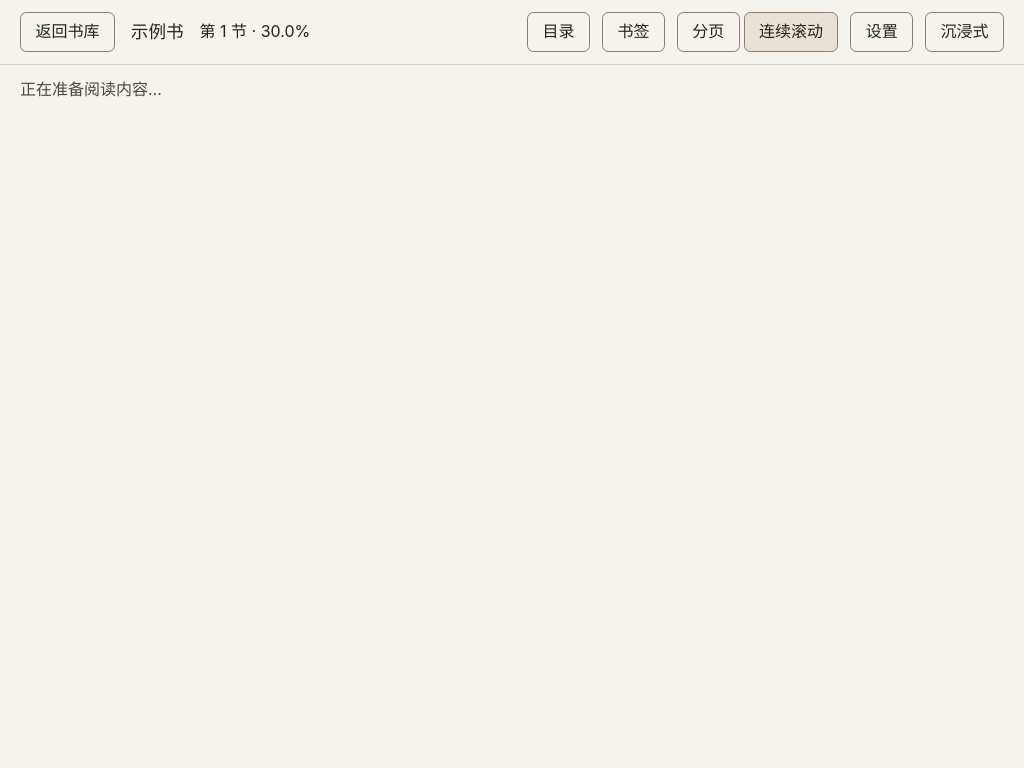
Test: ReaderShell › shows an empty toc without changing the frame
What coordinates should you click on to do the following:
click the button with aria-label "打开目录"
I would click on:
 (559, 32)
Its box is [527, 12, 590, 52].
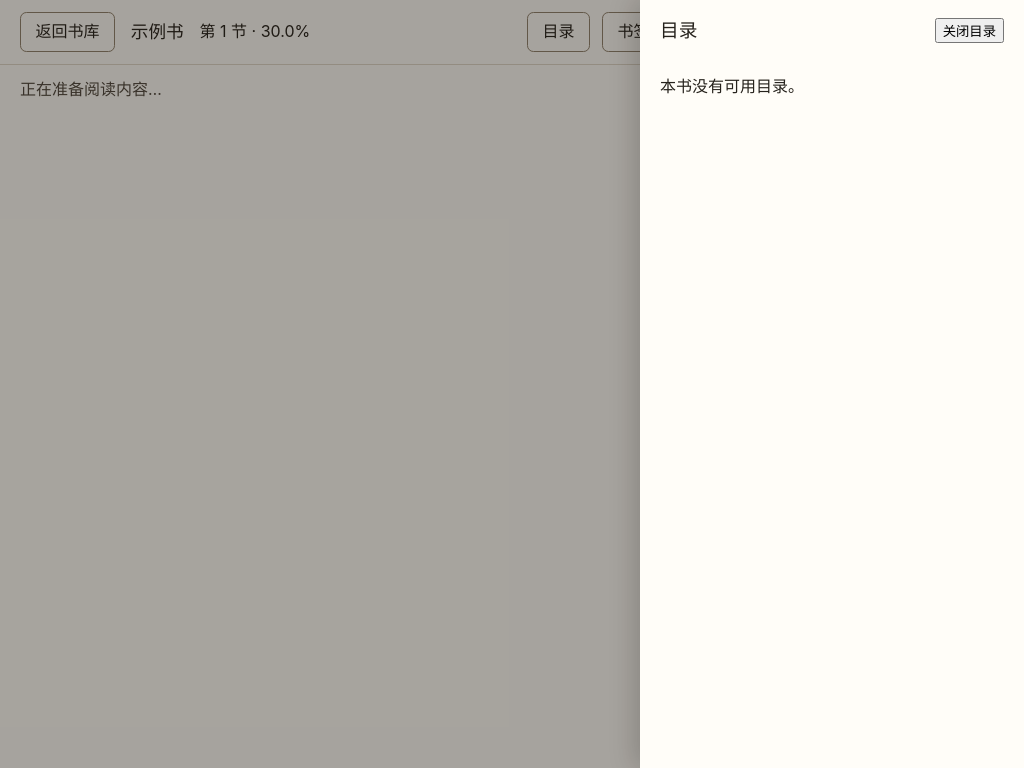
Check: the text "本书没有可用目录。" is shown, box [660, 76, 804, 96]
Check: the button "关闭目录" is shown, box [935, 18, 1004, 44]
